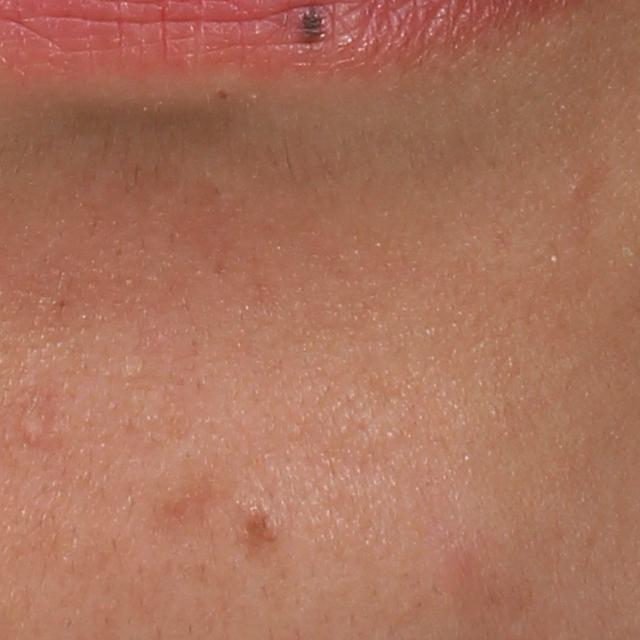nevus: (300, 7, 323, 43)
